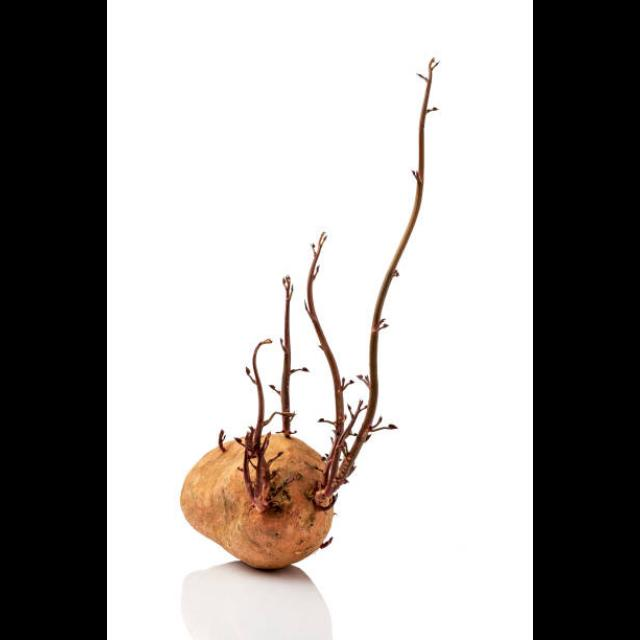Sprouted potato: (169, 140, 393, 564)
